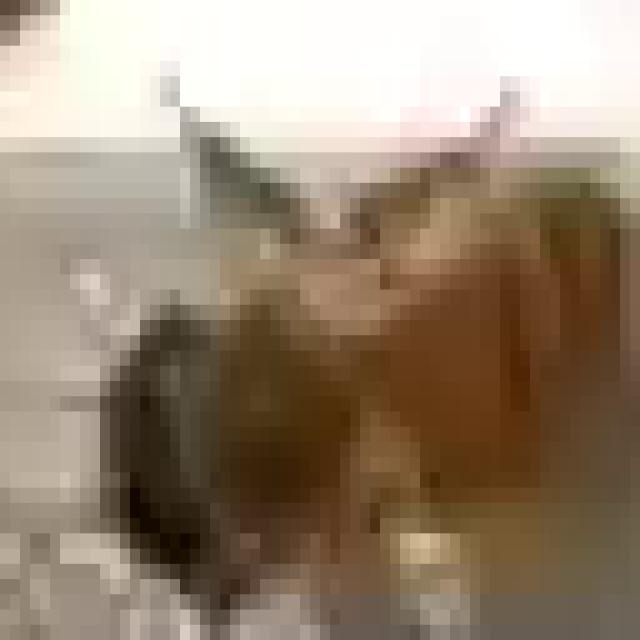honeybee: (101, 135, 614, 576)
